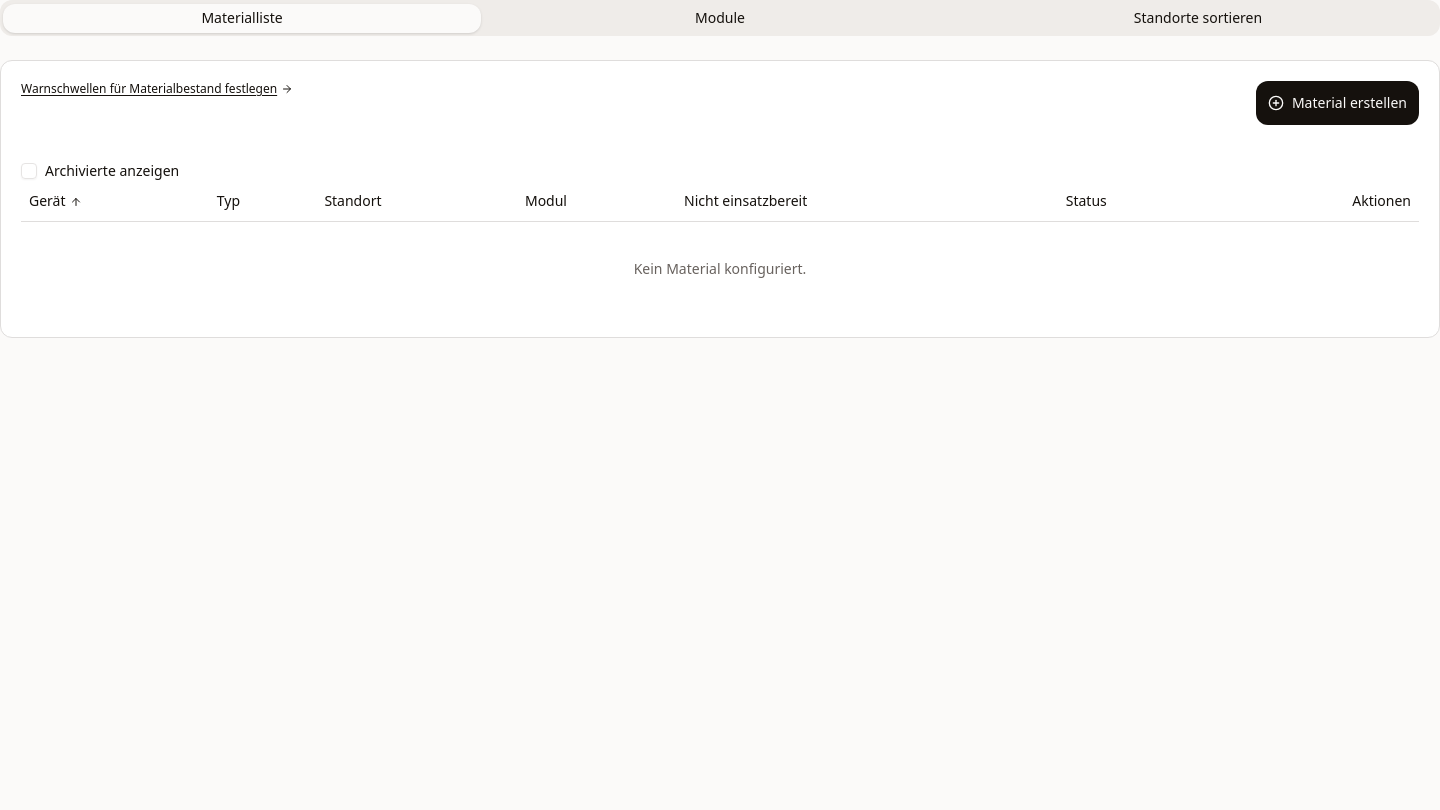
Test: MaterialSettings › blocks submit when name is empty
The width and height of the screenshot is (1440, 810).
Click the button "Material erstellen" at (1337, 103), box [1256,81,1419,125]
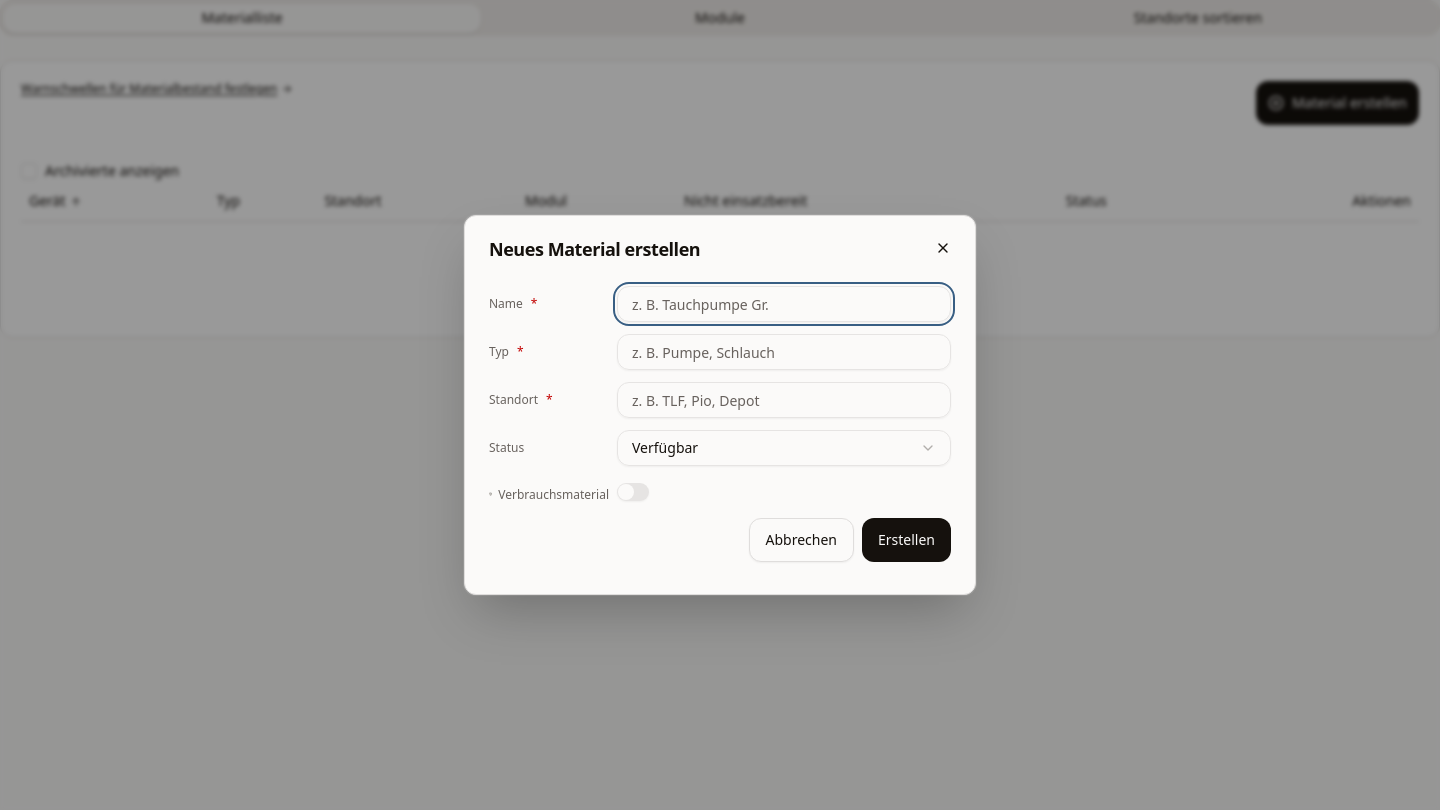
Click the button "Erstellen" at (906, 540), box [862,518,951,562]
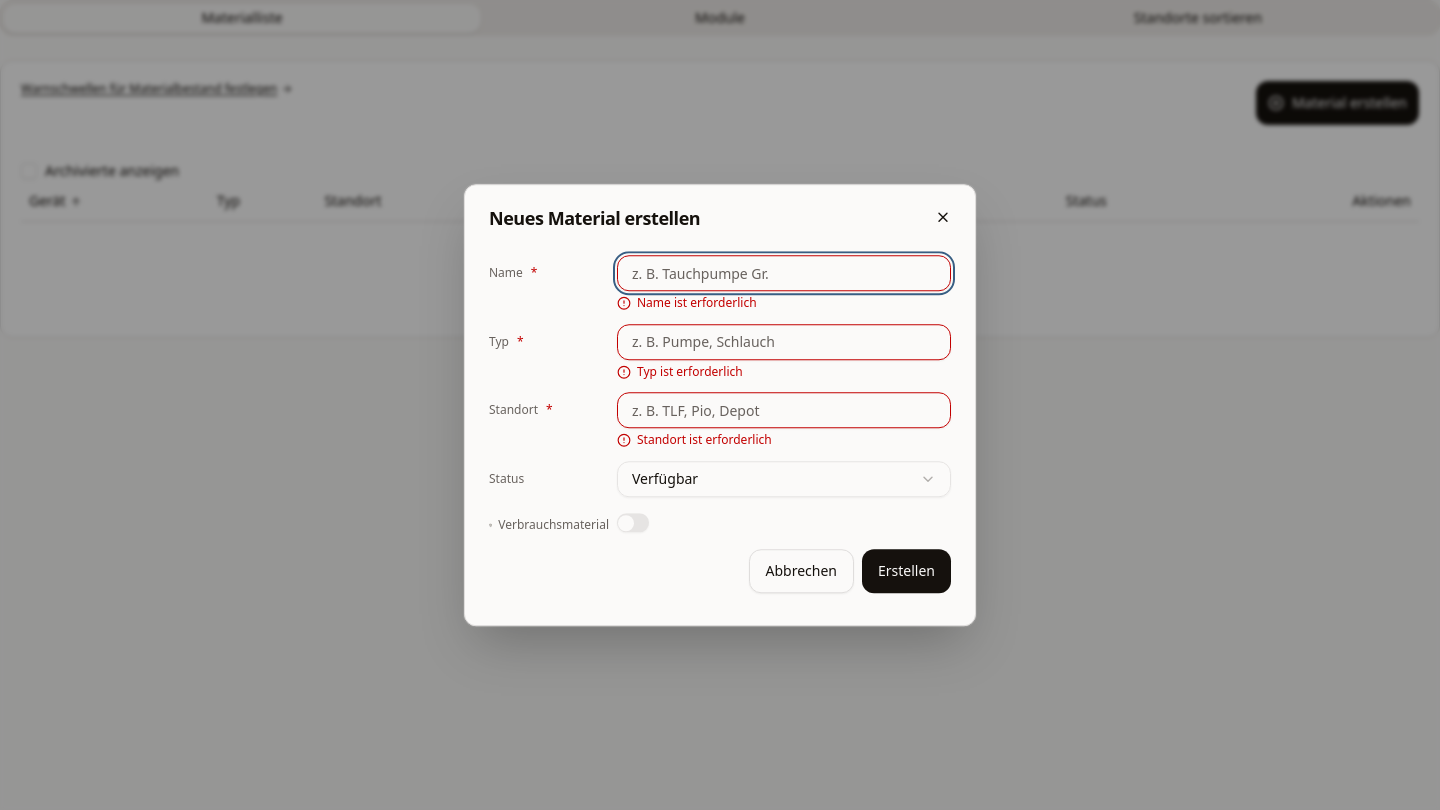
Check: the text "Name ist erforderlich" is shown, box [637,295,757,312]
